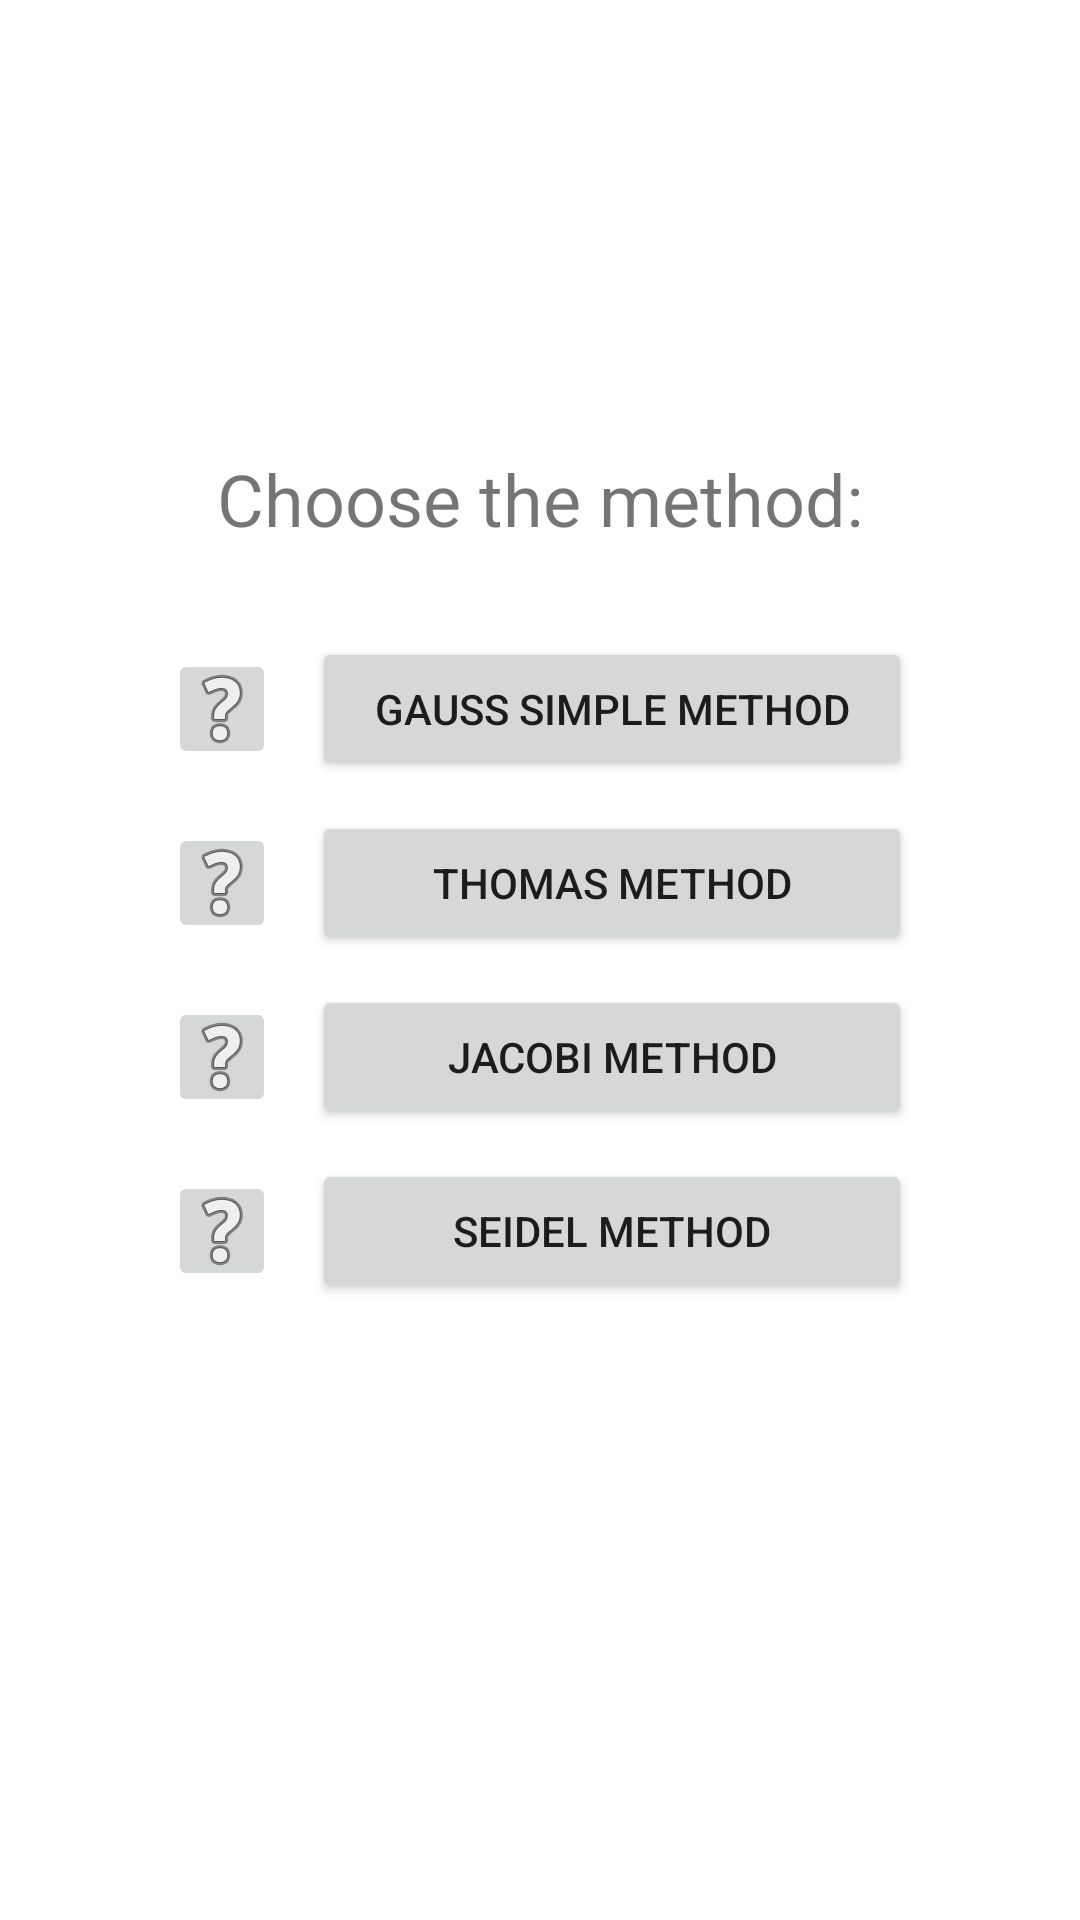

Named icons in this screenshot (1080*1920) and their centers, (x=x, y=y):
help: (x=222, y=709), (x=222, y=883), (x=222, y=1057), (x=222, y=1231)
